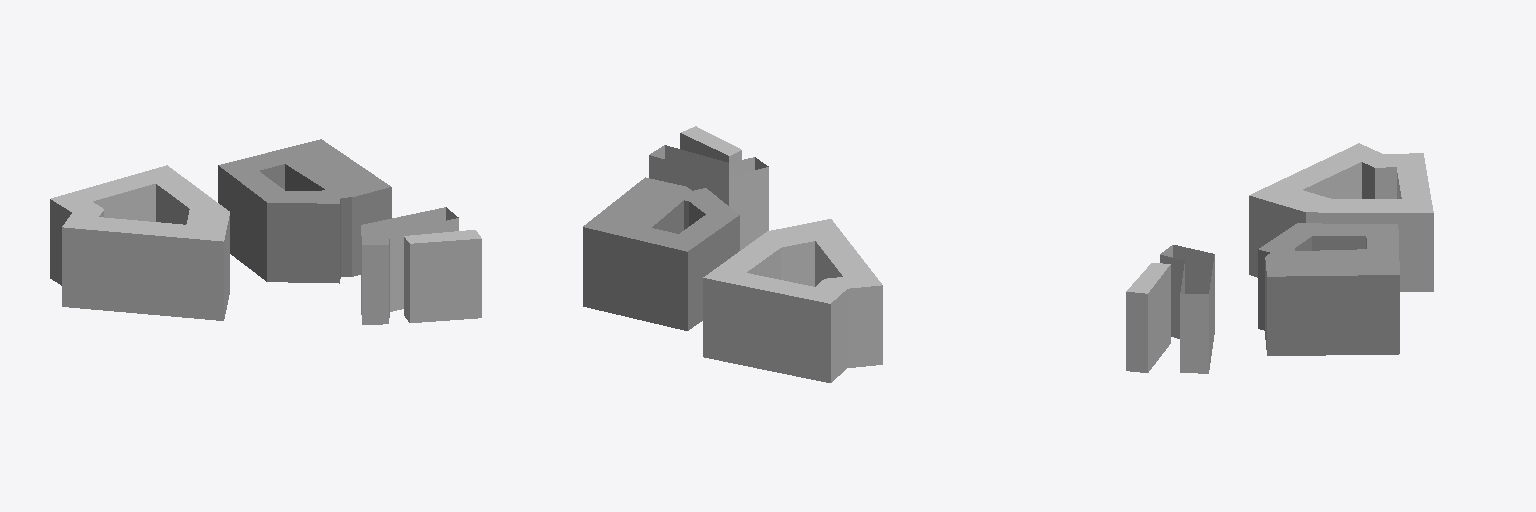
The model's file is BuildingModel.obj.
The picture shows the model from 3 angles: view 1: azimuth 30°, elevation 25°; view 2: azimuth 150°, elevation 25°; view 3: azimuth 270°, elevation 25°; orthographic projection.
Visible parts, largest first — view 1: Building1_Plane, Building2_Plane.001, Building3_Plane.002; view 2: Building1_Plane, Building2_Plane.001, Building3_Plane.002; view 3: Building2_Plane.001, Building1_Plane, Building3_Plane.002.
Part boxes in pixels (left/top/right/bottom): Building1_Plane: left=50, top=165, right=229, bottom=320; Building2_Plane.001: left=218, top=139, right=391, bottom=283; Building3_Plane.002: left=361, top=207, right=481, bottom=324; Building1_Plane: left=703, top=219, right=882, bottom=382; Building2_Plane.001: left=583, top=177, right=739, bottom=330; Building3_Plane.002: left=649, top=126, right=768, bottom=250; Building2_Plane.001: left=1258, top=223, right=1399, bottom=355; Building1_Plane: left=1249, top=143, right=1433, bottom=291; Building3_Plane.002: left=1126, top=245, right=1214, bottom=373.
Size of the model in its own units: 2.03 by 0.532 by 1.75.